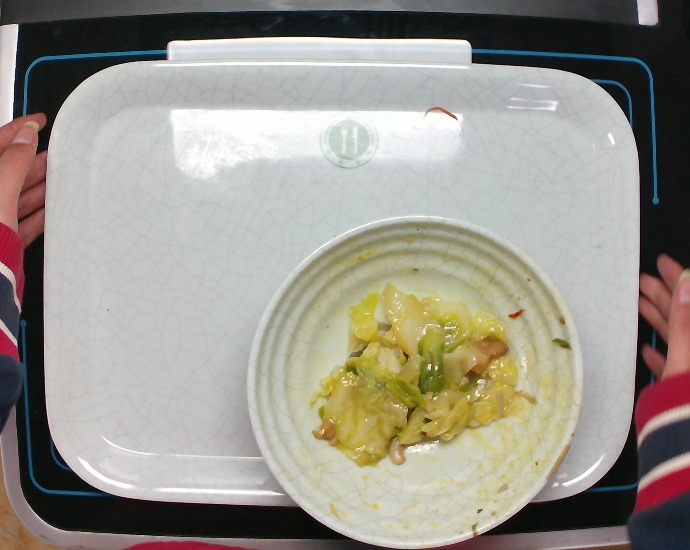JYsf-Da_Tang_Wan: (240, 210, 588, 550)
